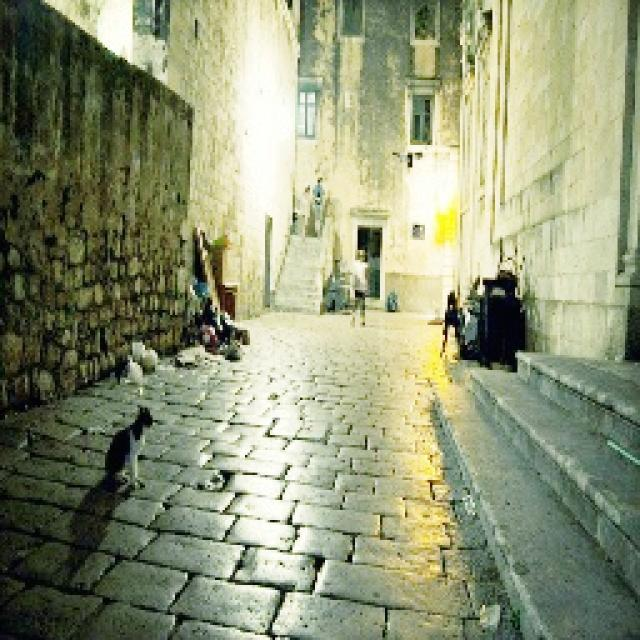cat: (104, 404, 151, 496)
